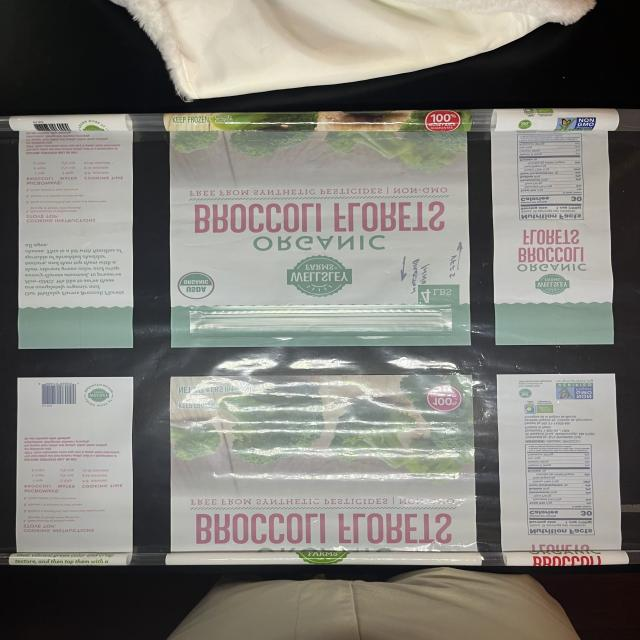zip_l: (189, 302, 453, 340)
